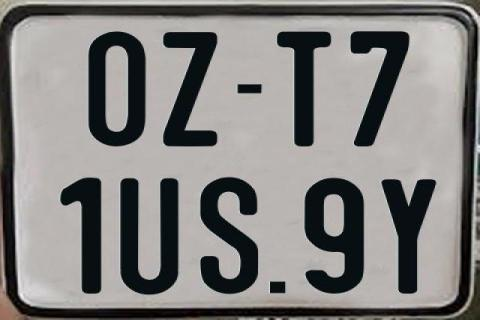0: (87, 30, 151, 148), (348, 29, 412, 147), (302, 176, 363, 293), (57, 177, 101, 293)
S: (198, 174, 257, 292)
T: (275, 30, 331, 148)
U: (120, 177, 184, 297)
Y: (381, 177, 436, 296)
Z: (161, 32, 219, 150)
